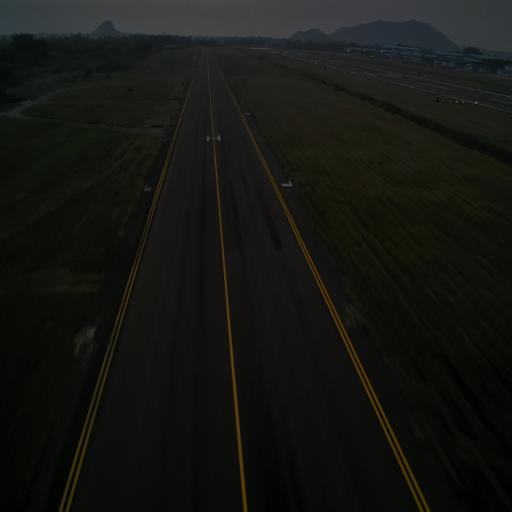on: (347, 298, 356, 316), (86, 323, 92, 337)
